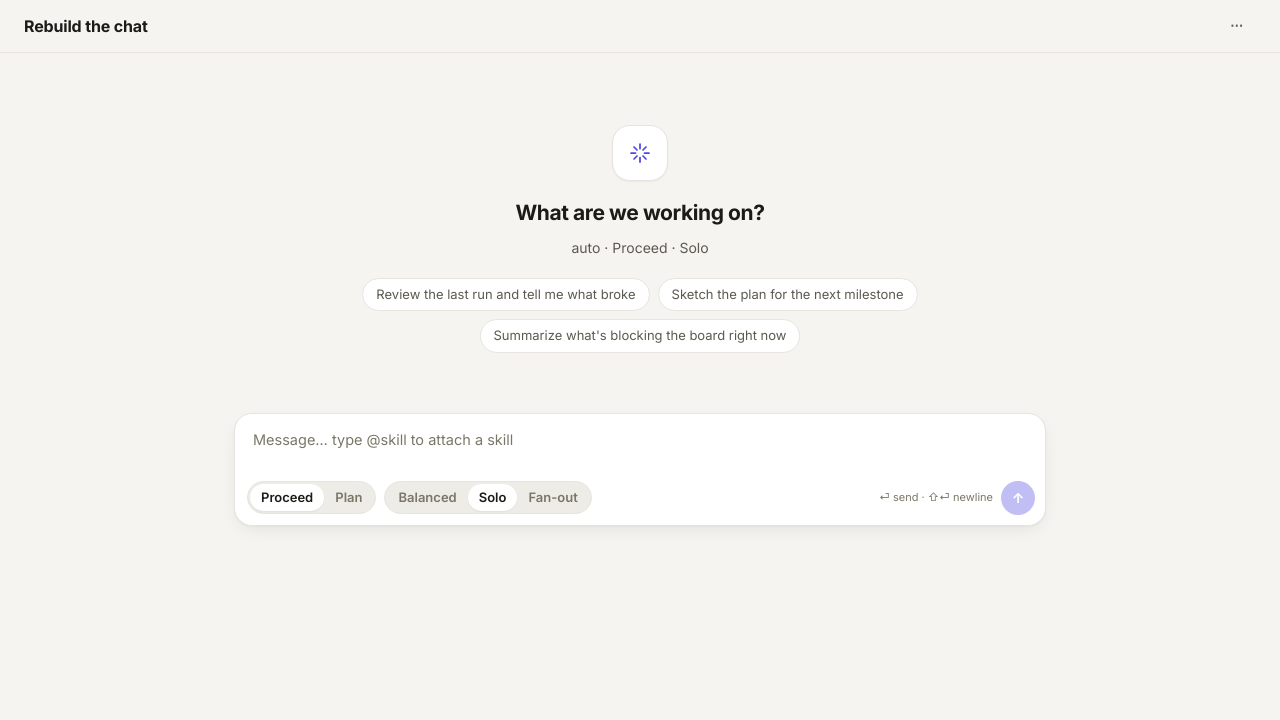
Scenario: ChatSurface — NL assign/propose composer intercept › renders the PROPOSAL confirmation — never the assignment toast — for a propose sentence
In the text box: (640, 440) [235, 414, 1045, 468], type "propose an automation to draft the weekly digest"
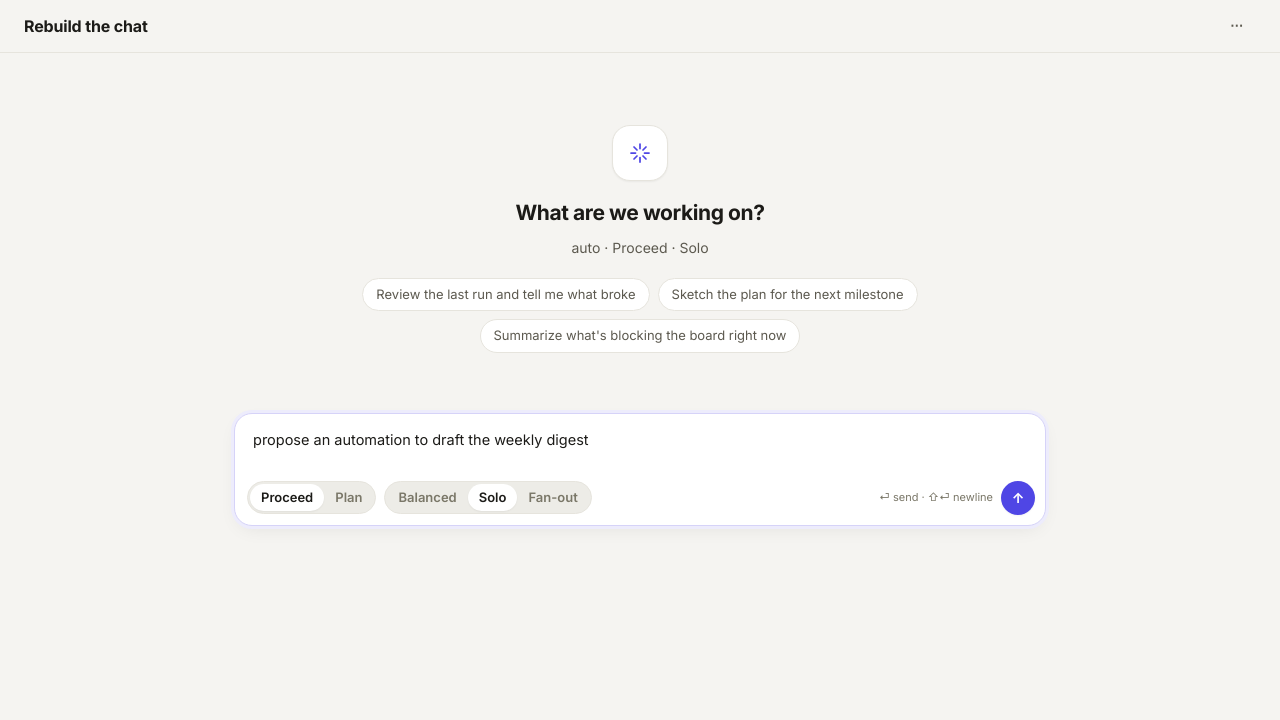
Click the button named "Send": (1018, 498) [1001, 480, 1035, 514]
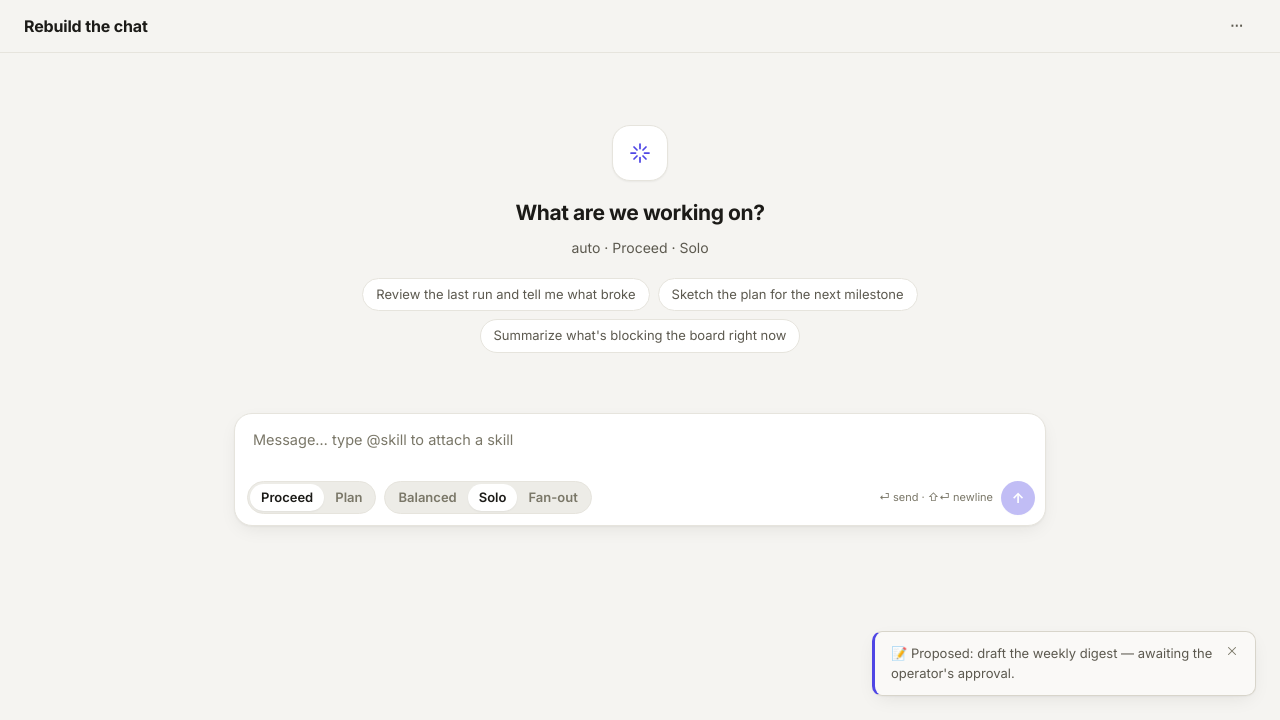
Expected: the text "📝 Proposed: draft the weekly digest — awaiting the operator's approval." is shown, [891, 644, 1213, 683]
Expected: the text box is empty, [235, 414, 1045, 468]
